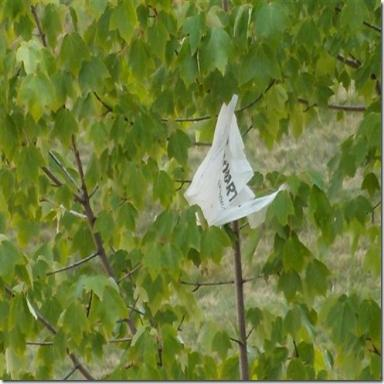plasticbag: (183, 90, 285, 231)
